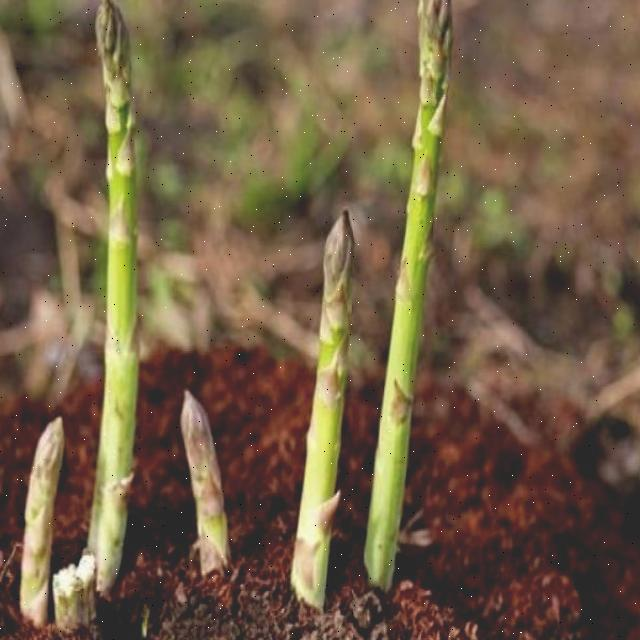aspargus: (363, 0, 454, 594), (291, 210, 356, 612)
